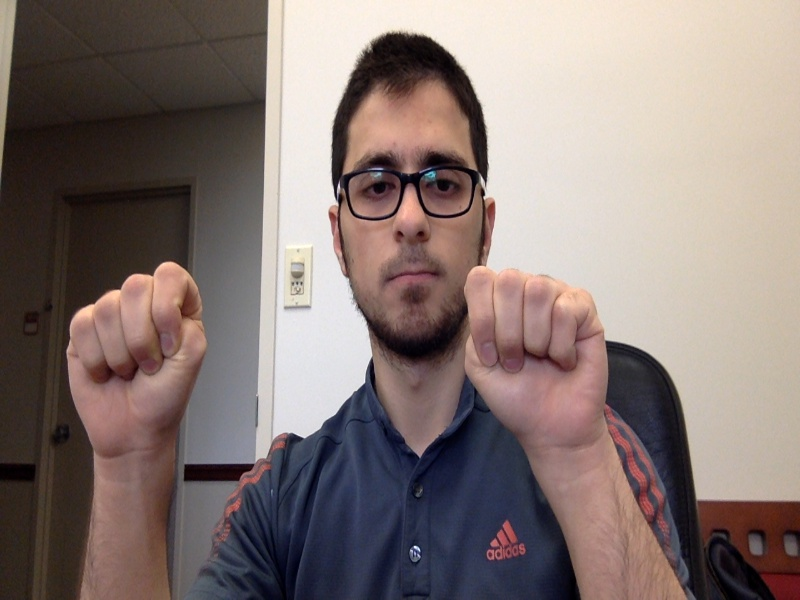0-hand: (463, 267, 608, 451), (69, 263, 206, 457)
